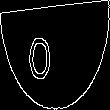O_N: (43, 28, 67, 82)
